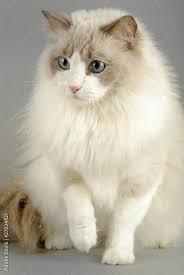ragdoll: (39, 1, 143, 116)
